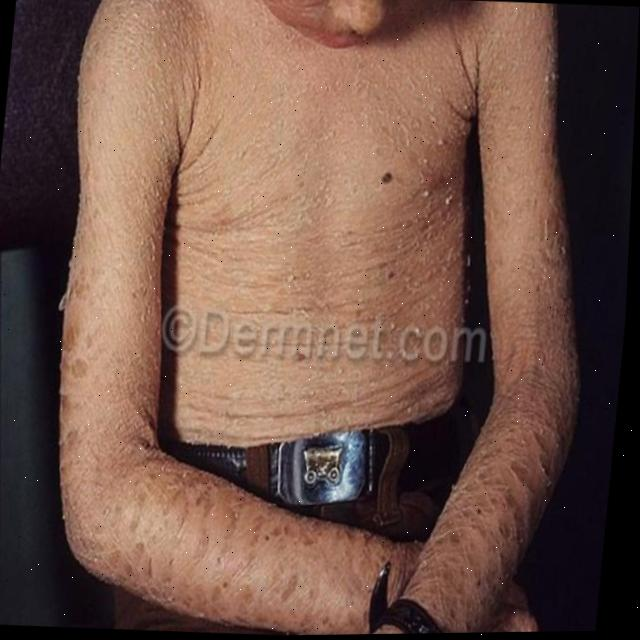Eczema: (166, 69, 478, 393), (104, 465, 391, 634), (45, 248, 166, 476), (432, 400, 557, 610)
